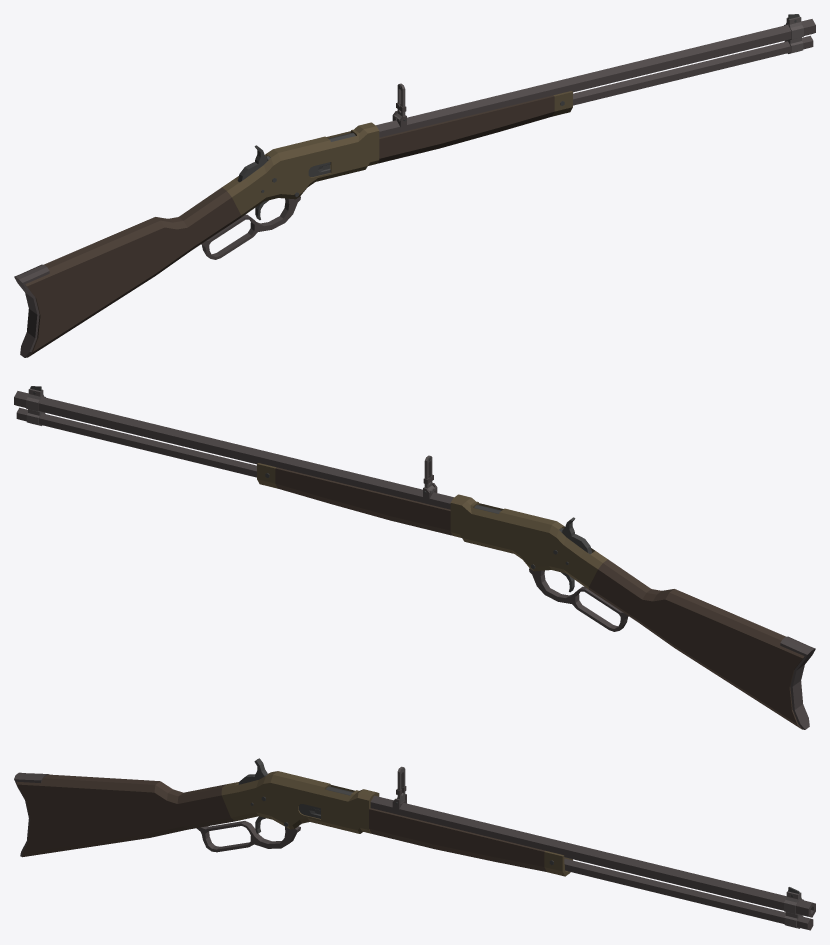
Rendered from winchester-1866.glb.
3 renders of one model, top to bottom at view 1: azimuth 30°, elevation 25°; view 2: azimuth 150°, elevation 25°; view 3: azimuth 330°, elevation 25°, orthographic.
Parts seen in each view (by area): view 1: Cube.003, Cylinder.001, Cube, Cube.004, Cylinder.002, Cube.001, Cube.013; view 2: Cube.003, Cube, Cylinder.001, Cube.004, Cylinder.002, Cube.001, Cube.013; view 3: Cube.003, Cylinder.001, Cube, Cube.004, Cylinder.002, Cube.001, Cube.005, Cube.013.
Boxes of the visible parts, x1,y1,x2,y2 form: Cube.003: (25,187,241,357); Cylinder.001: (376,19,815,137); Cube: (222,122,379,217); Cube.004: (377,95,554,163); Cylinder.002: (573,35,813,105); Cube.001: (201,196,300,259); Cube.013: (14,264,49,357); Cube.003: (588,559,804,729); Cube: (450,494,607,589); Cylinder.001: (14,391,453,509); Cube.004: (275,467,452,535); Cylinder.002: (16,407,256,477); Cube.001: (529,568,628,631); Cube.013: (780,636,815,729); Cube.003: (16,774,234,856); Cylinder.001: (370,795,815,917); Cube: (221,771,379,833); Cube.004: (369,808,546,871); Cylinder.002: (564,858,813,930); Cube.001: (196,821,300,852); Cube.005: (544,851,572,876); Cube.013: (14,772,49,856).
Size of the model in its own units: 1.05 by 0.2273 by 0.0255.
